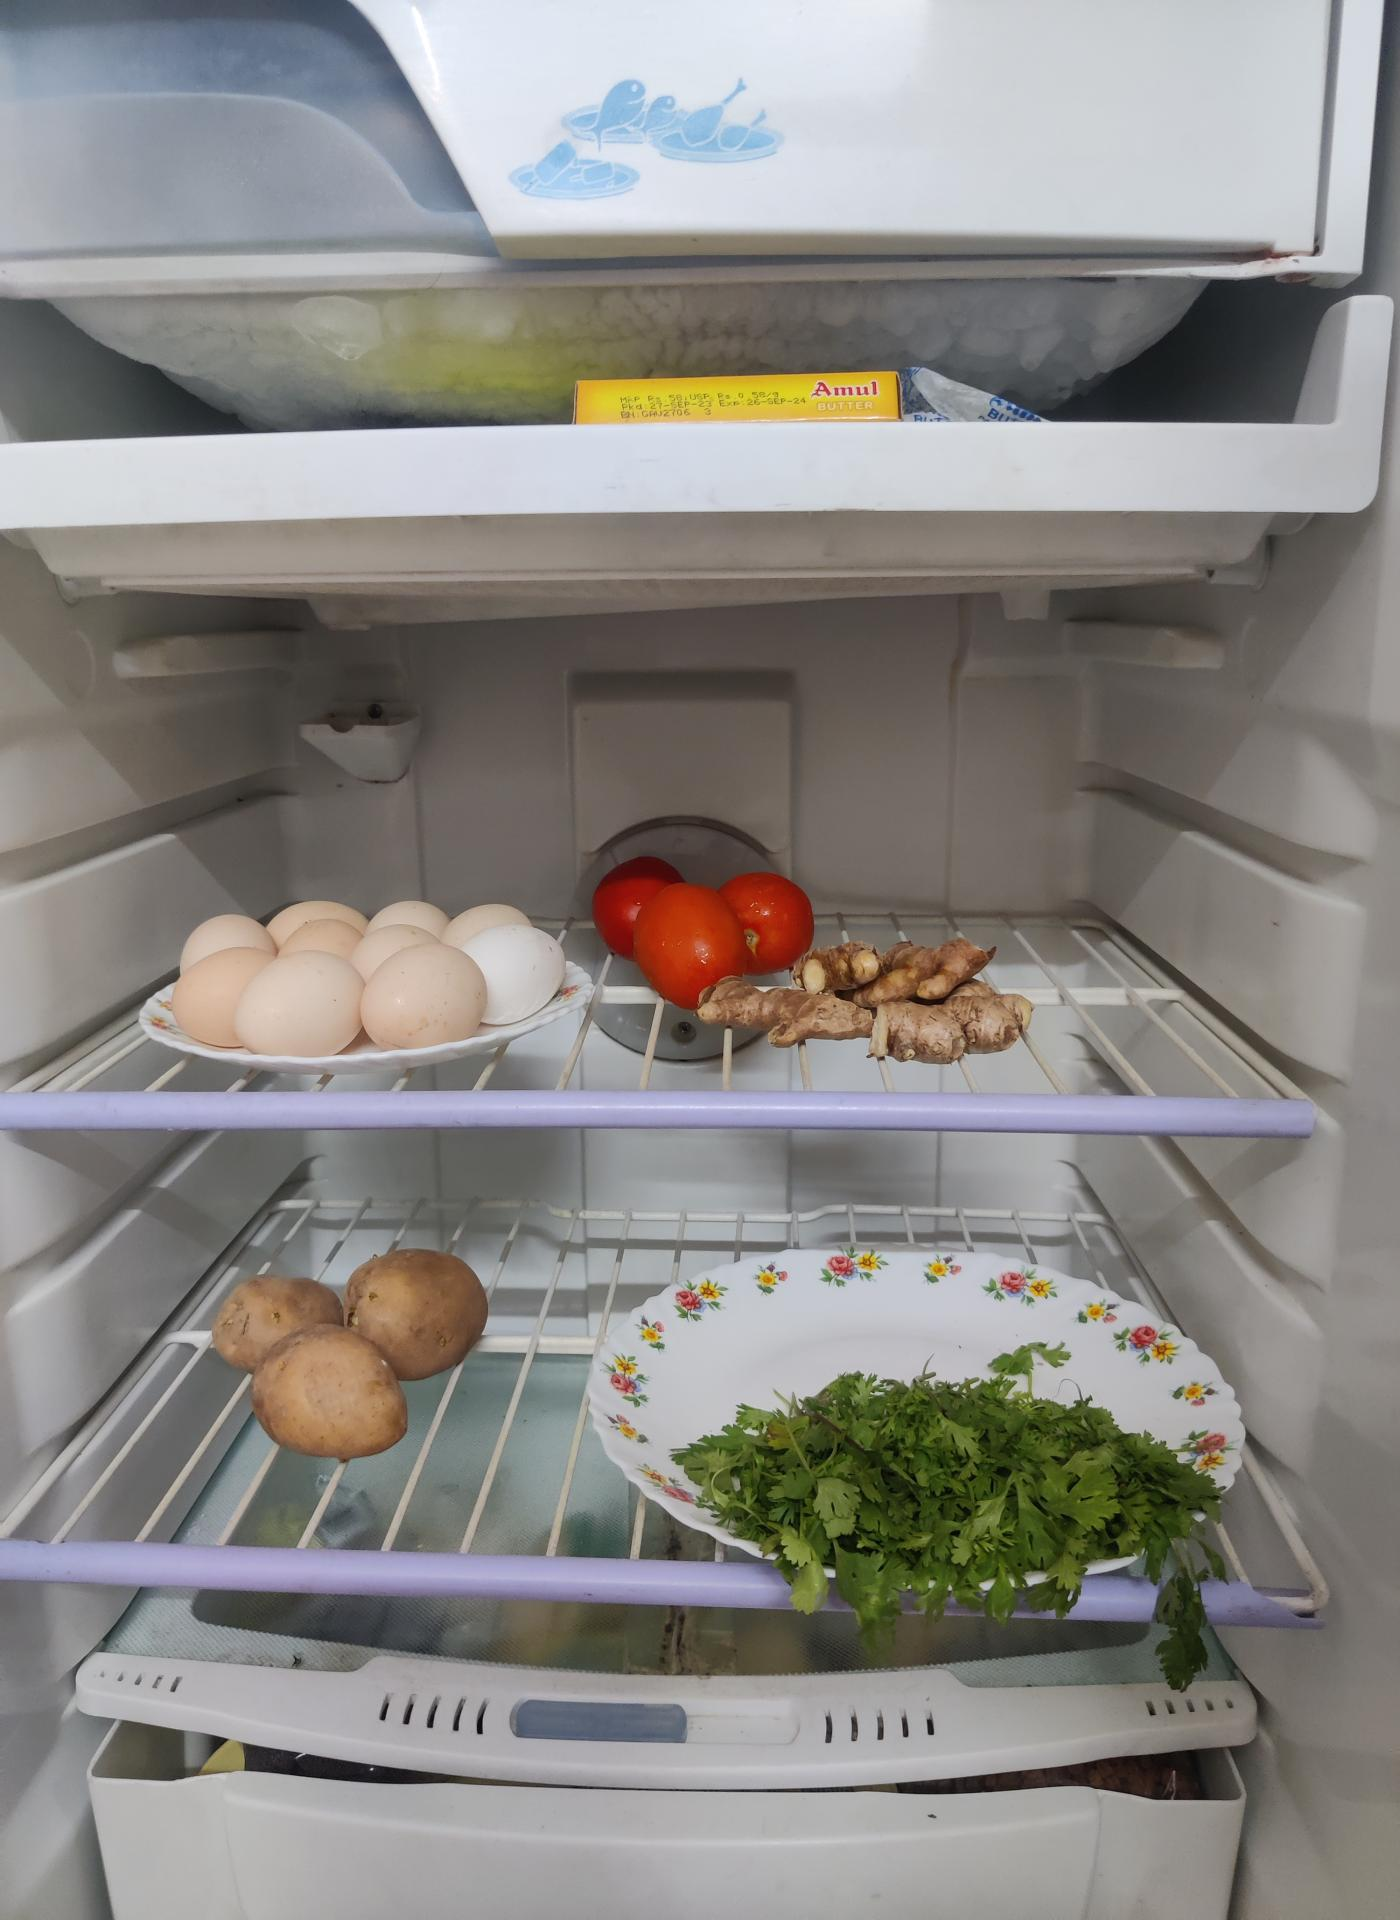coriander: (675, 1371, 1249, 1620)
egg: (179, 887, 559, 1052)
ginger: (778, 926, 1032, 1049)
potato: (210, 1249, 486, 1459)
tomato: (590, 854, 811, 1003)
